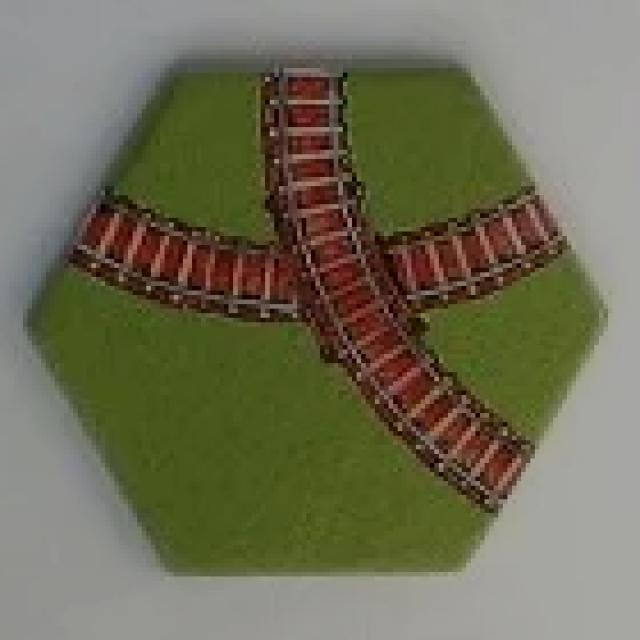7_3: (34, 62, 612, 578)
